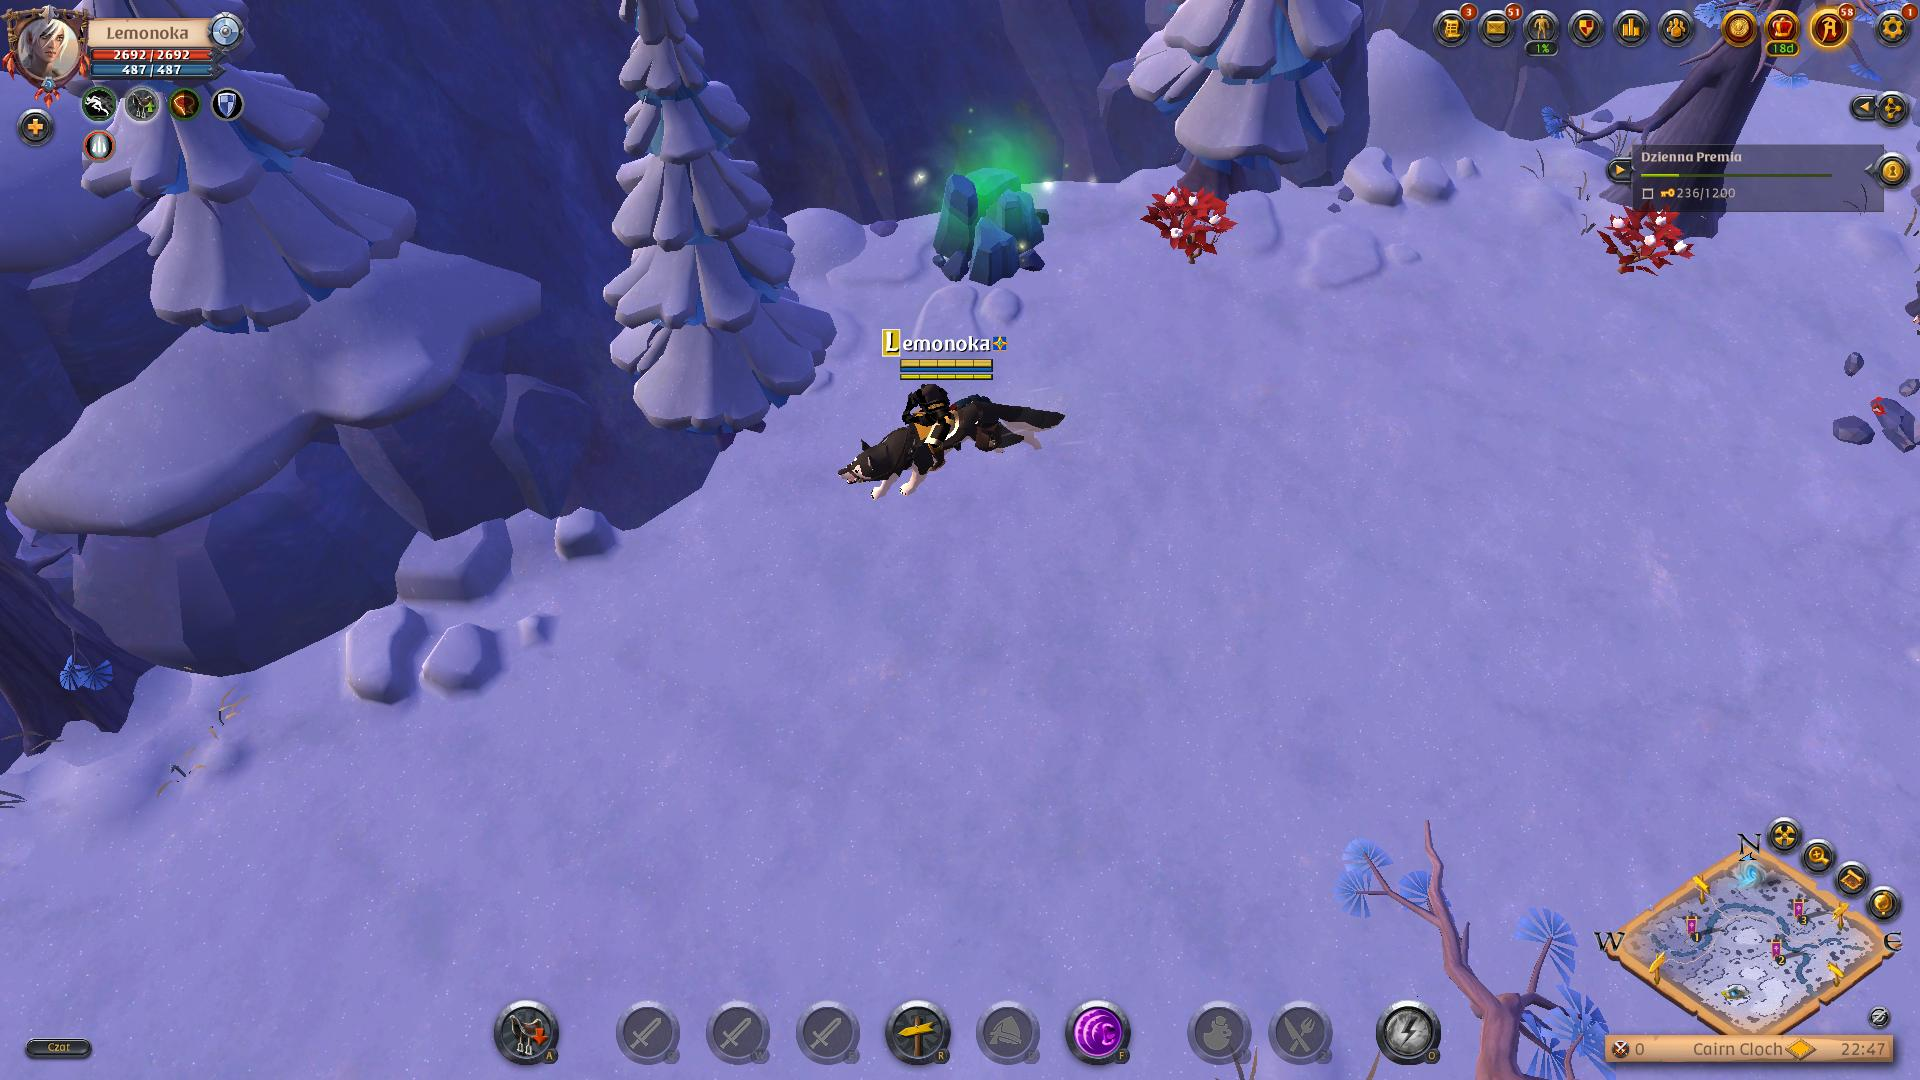fiber tier 5: (1138, 182, 1236, 268), (1593, 214, 1695, 280)
rock tier 4: (903, 105, 1048, 277)
